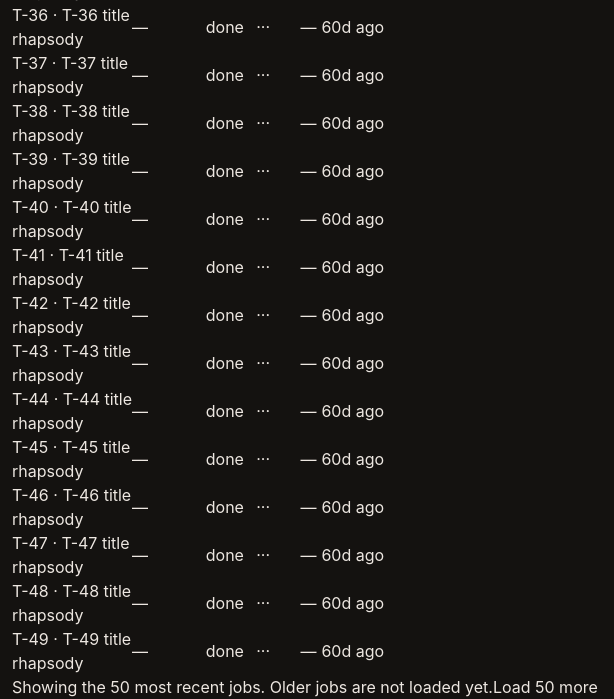
Test: paging past the first 50 (STUDIO-792) › reaches the older rows on demand, one store page at a time
The image size is (614, 699).
(page scrolled)
Click the button "Load 50 more" at {"x": 545, "y": 687}, box [493, 675, 598, 698]
(page scrolled)
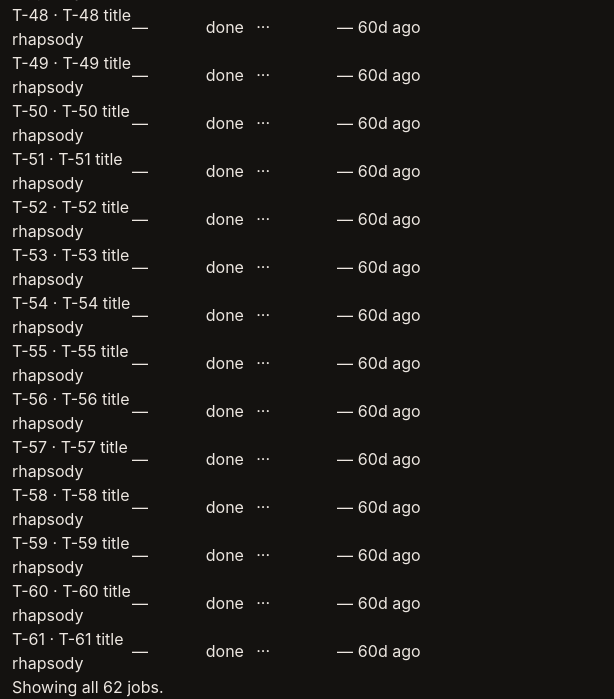
Expected: the text with class "note" reads "Showing all 62 jobs.", [12, 677, 164, 697]
Expected: the button "Load 50 more" is gone
